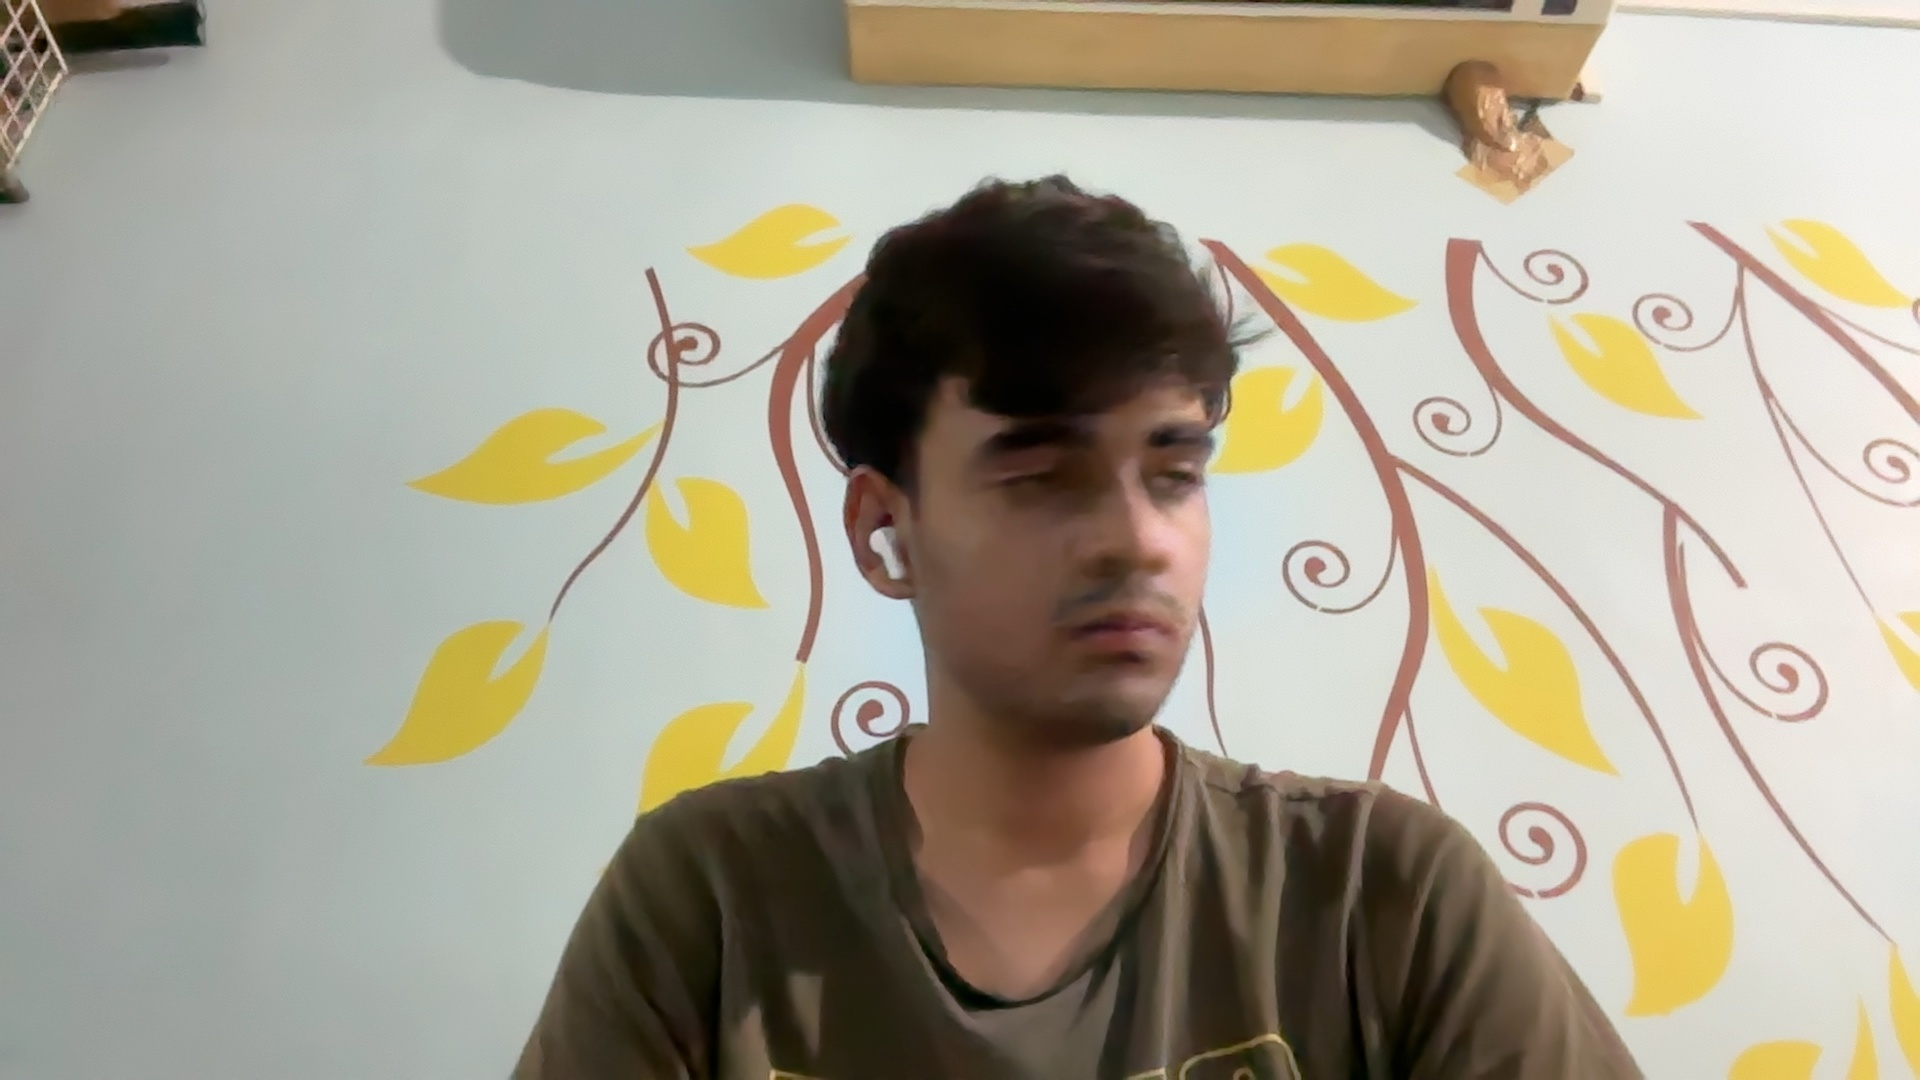No Mask: (925, 519, 1217, 733)
